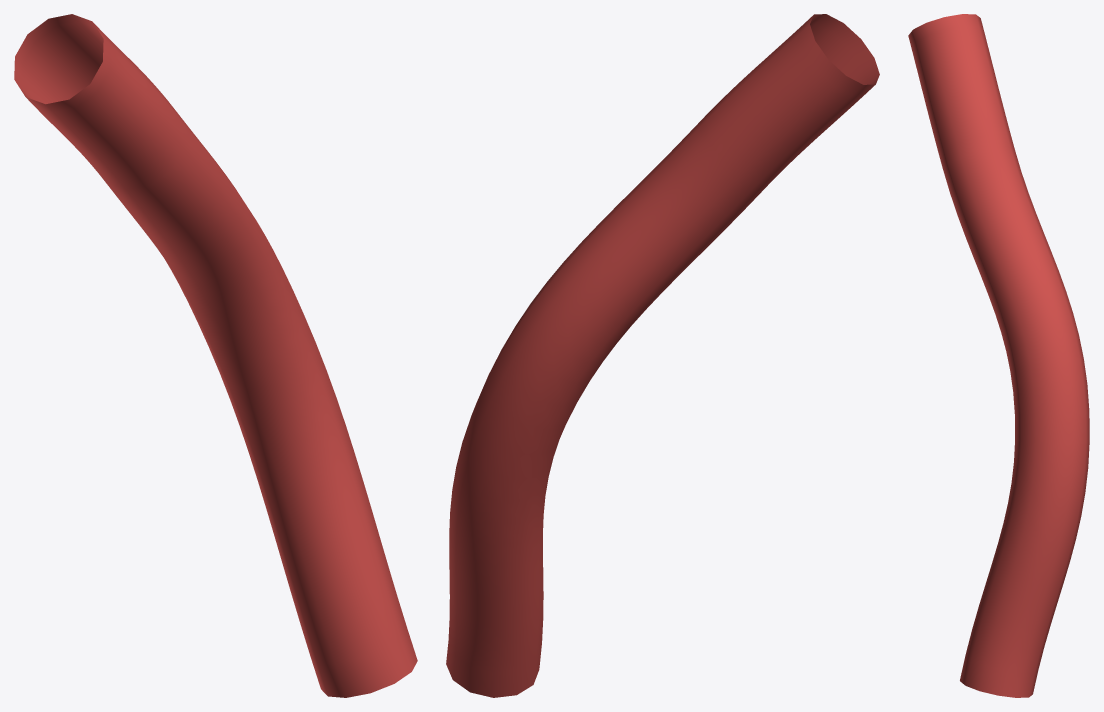
3 renders of one model, left to right at view 1: azimuth 30°, elevation 25°; view 2: azimuth 150°, elevation 25°; view 3: azimuth 270°, elevation 25°, orthographic. The views are drawn at different scales.
Visible parts, largest first — view 1: 左侧后交通动脉; view 2: 左侧后交通动脉; view 3: 左侧后交通动脉.
Part boxes in pixels (<box>): 左侧后交通动脉: <box>14,14,417,697</box>; 左侧后交通动脉: <box>446,14,879,697</box>; 左侧后交通动脉: <box>908,14,1089,697</box>.
Size of the model in its own units: 0.0106 by 0.0185 by 0.00536.
